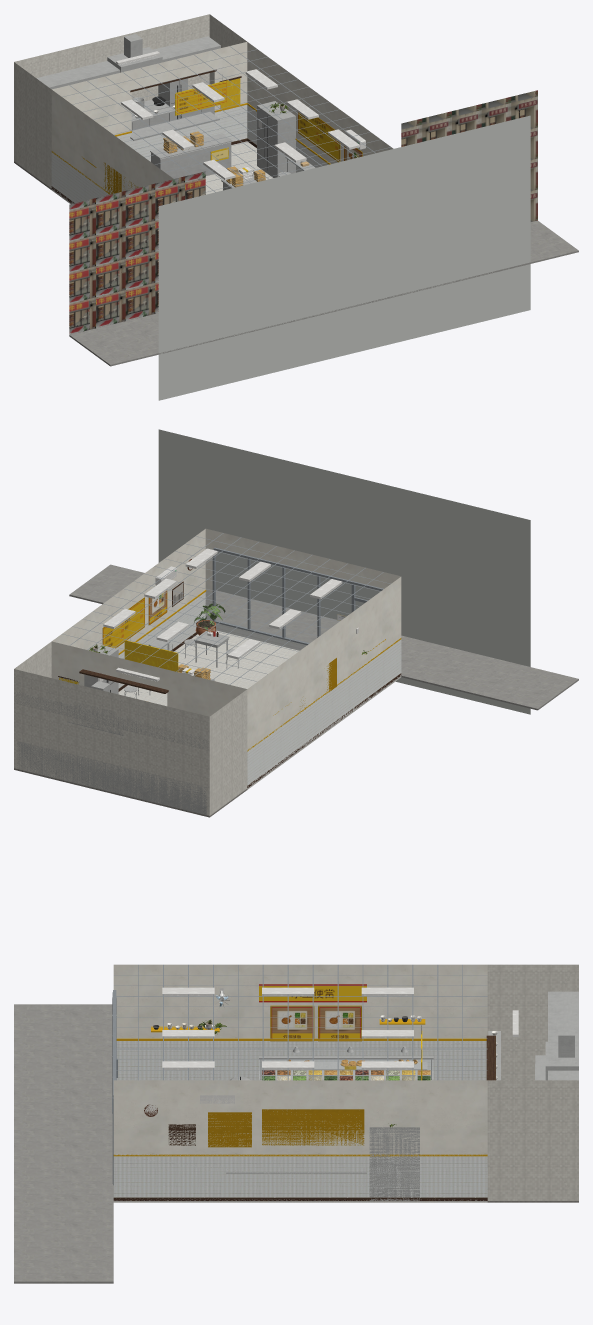
The model's file is l118_self.glb.
The picture shows the model from 3 angles, top to bottom: view 1: azimuth 30°, elevation 25°; view 2: azimuth 150°, elevation 25°; view 3: azimuth 270°, elevation 25°; orthographic projection. The views are drawn at different scales.
Visible parts, largest first — view 1: WALL_S_view, WALL_W_nb_view, WALL_N_kitchen_tile_w, WALL_N_wall, WALL_W_wall, WALL_N_ksteel_cc0, l118_self_paving, l118_self_steel, CEIL_l118_self_ceilgrid, WALL_E_wall, WALL_E_nb_view, CEIL_l118_self_vc (+7 smaller); view 2: WALL_S_view, WALL_N_kitchen_tile_w, l118_self_paving, WALL_W_wall, WALL_N_ksteel_cc0, WALL_W_wain, WALL_S_glass, WALL_N_wall, WALL_E_wall, CEIL_l118_self_ceilgrid, l118_self_floorm, WALL_S_wall (+9 smaller); view 3: l118_self_paving, WALL_E_wall, WALL_W_wall, WALL_N_kitchen_tile_w, WALL_E_wain, WALL_W_wain, CEIL_l118_self_ceilgrid, l118_self_steel, WALL_E_trim_brass, WALL_W_print, CEIL_l118_self_vc, WALL_N_ksteel_cc0 (+7 smaller).
Boxes of the visible parts, x1,y1,x2,y2 form: WALL_S_view: [158, 115, 530, 400]; WALL_W_nb_view: [69, 171, 205, 334]; WALL_N_kitchen_tile_w: [14, 14, 246, 188]; WALL_N_wall: [52, 42, 247, 135]; WALL_W_wall: [51, 90, 173, 194]; WALL_N_ksteel_cc0: [36, 34, 220, 140]; l118_self_paving: [69, 220, 578, 366]; l118_self_steel: [133, 74, 315, 190]; CEIL_l118_self_ceilgrid: [62, 46, 390, 192]; WALL_E_wall: [247, 42, 393, 163]; WALL_E_nb_view: [401, 90, 537, 221]; CEIL_l118_self_vc: [121, 69, 359, 179]; WALL_S_view: [158, 429, 530, 714]; WALL_N_kitchen_tile_w: [14, 641, 247, 815]; l118_self_paving: [69, 564, 578, 710]; WALL_W_wall: [247, 577, 401, 750]; WALL_N_ksteel_cc0: [15, 681, 208, 815]; WALL_W_wain: [247, 639, 401, 786]; WALL_S_glass: [216, 552, 378, 642]; WALL_N_wall: [51, 641, 246, 716]; WALL_E_wall: [52, 529, 205, 652]; CEIL_l118_self_ceilgrid: [62, 533, 390, 684]; l118_self_floorm: [118, 630, 401, 789]; WALL_S_wall: [205, 528, 400, 592]; l118_self_paving: [14, 1004, 113, 1283]; WALL_E_wall: [113, 1080, 487, 1155]; WALL_W_wall: [113, 964, 487, 1038]; WALL_N_kitchen_tile_w: [487, 964, 578, 1200]; WALL_E_wain: [113, 1156, 487, 1200]; WALL_W_wain: [116, 1041, 486, 1080]; CEIL_l118_self_ceilgrid: [113, 964, 487, 1080]; l118_self_steel: [214, 993, 433, 1200]; WALL_E_trim_brass: [208, 1109, 364, 1147]; WALL_W_print: [259, 984, 366, 1038]; CEIL_l118_self_vc: [162, 987, 413, 1069]; WALL_N_ksteel_cc0: [488, 991, 578, 1080].
Bounding box in the file's own units: 15.8 × 6.27 × 13.6.
Materials: 39 (34 with a texture image).
